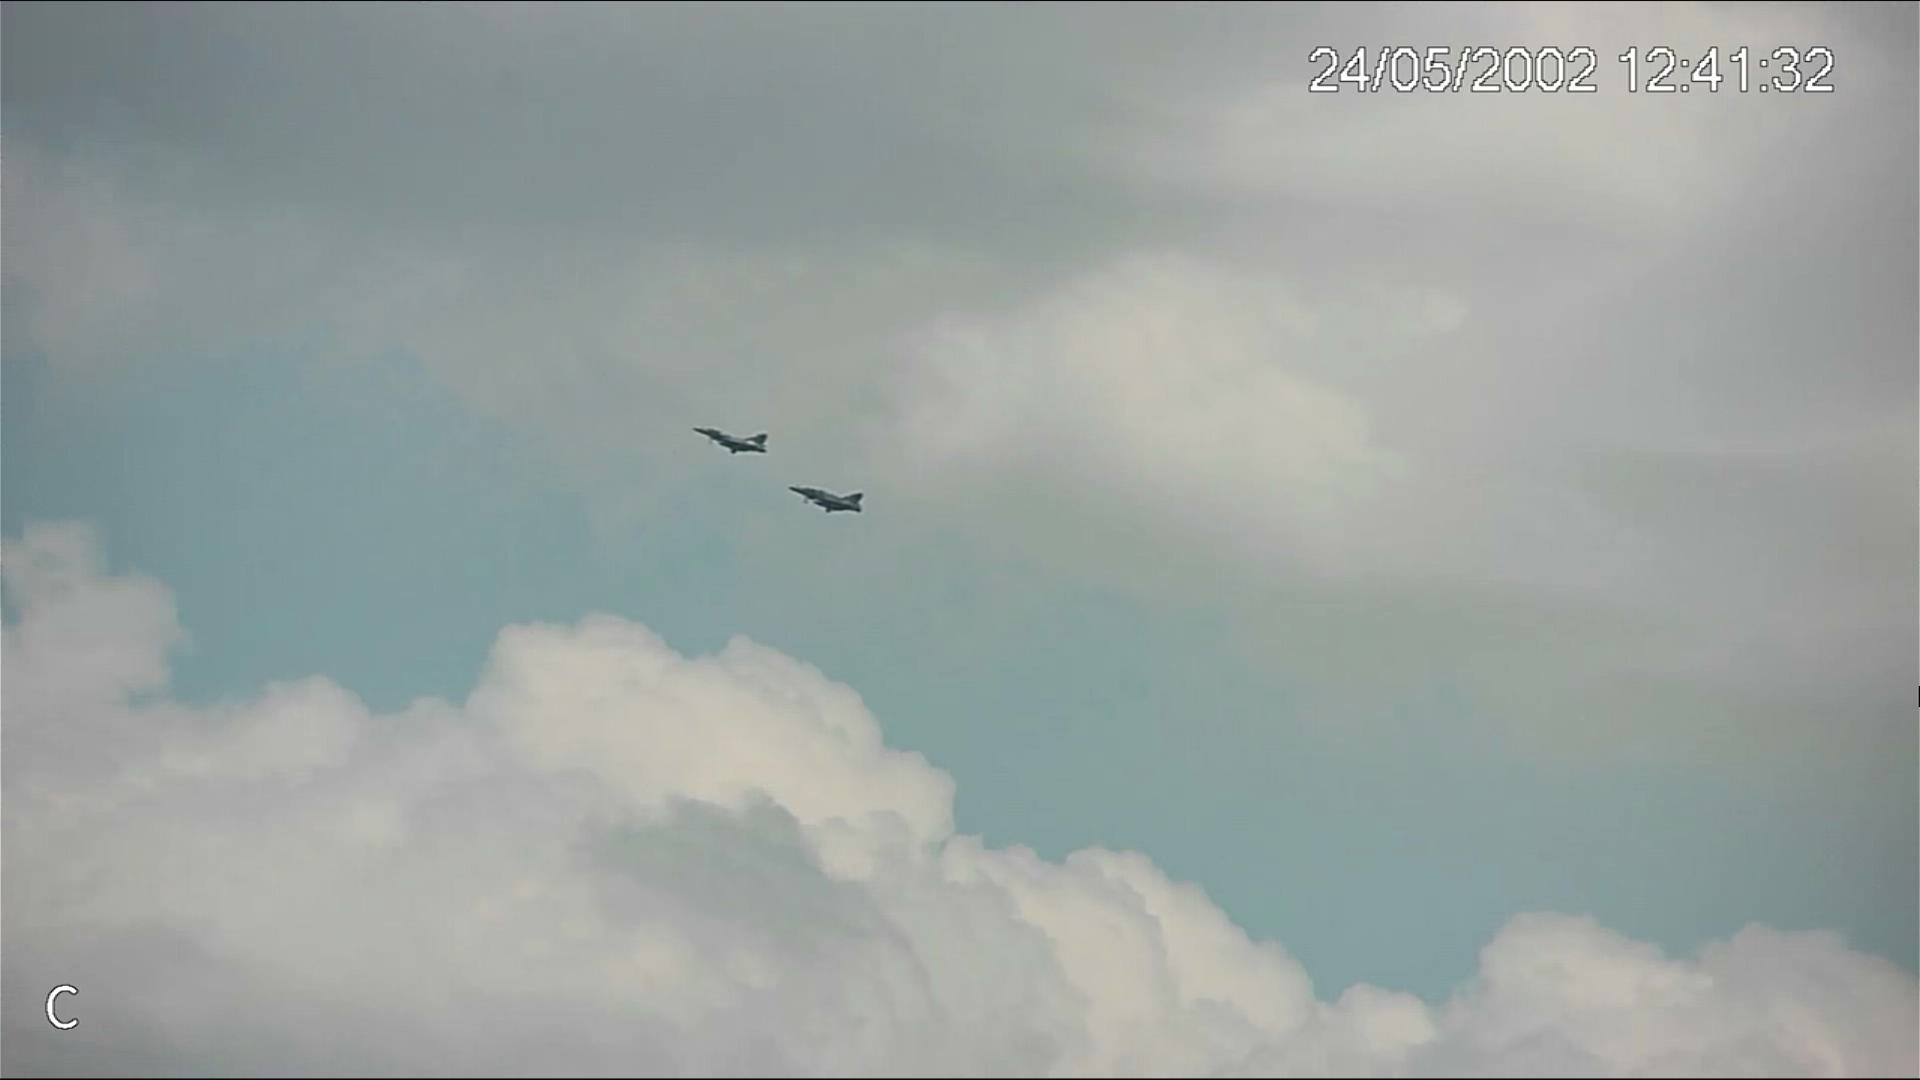SU_30: (786, 483, 866, 516), (688, 425, 771, 455)
